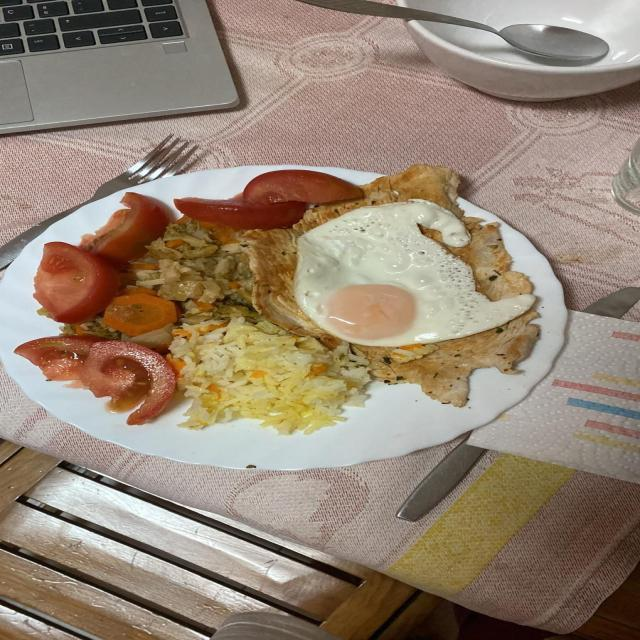carrot: (102, 288, 175, 337)
fork: (0, 134, 206, 270)
fried egg: (294, 200, 534, 347)
garbage: (469, 312, 639, 483)
knife: (396, 434, 486, 522), (579, 287, 639, 319)
plate: (0, 165, 567, 471)
rice: (171, 318, 369, 435)
steak: (239, 164, 532, 350), (348, 307, 539, 407)
tomato: (33, 192, 175, 324), (15, 336, 175, 424), (174, 169, 363, 230)
vegetables: (129, 219, 263, 324), (125, 324, 174, 351)
